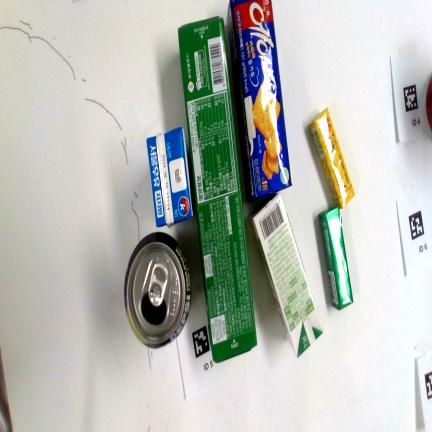can_pepsi_zero: (125, 232, 191, 348)
cracker_ace: (227, 0, 291, 200)
cracker_vege: (178, 17, 256, 361)
gum_green: (319, 207, 353, 309)
gum_yellow: (309, 109, 354, 207)
milk_blue: (147, 127, 192, 227)
milk_green: (252, 194, 322, 356)
